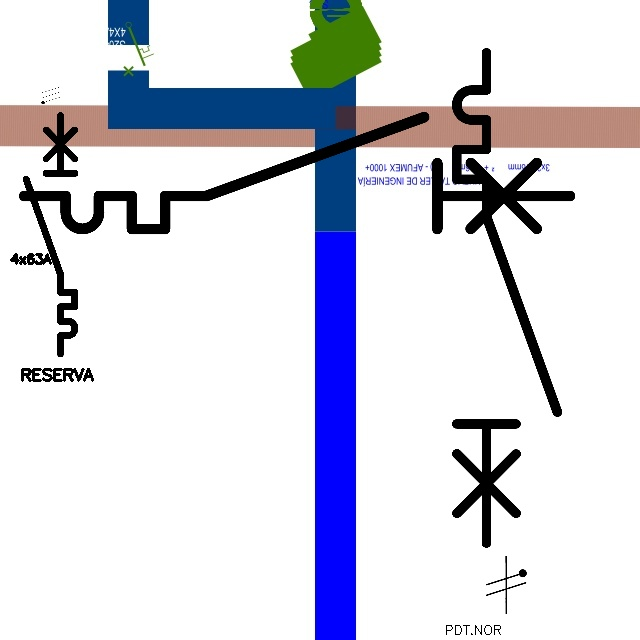interruptor_termomagnetico: (10, 103, 583, 243), (444, 40, 570, 556), (20, 109, 81, 360)
